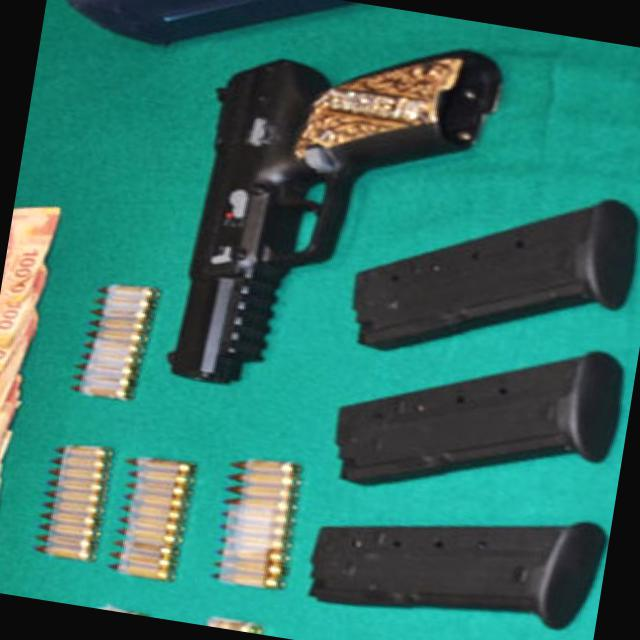handgun: (140, 8, 508, 424)
